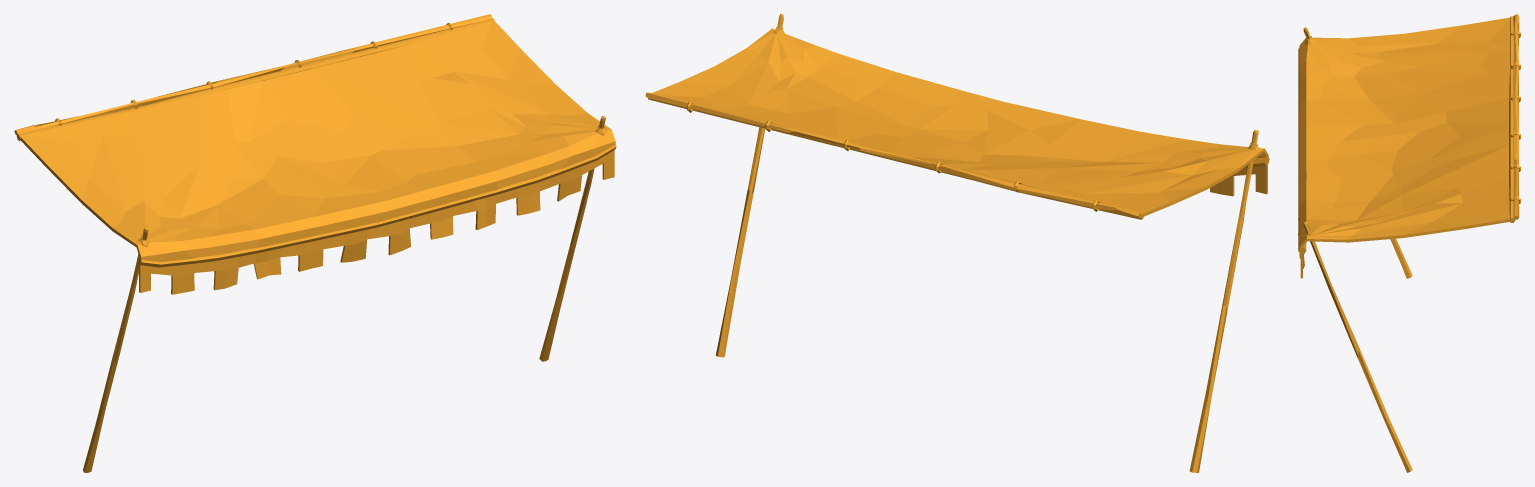
The model's file is SM_Tent_Porch_Wide_Plain_Fantasy.fbx.
The picture shows the model from 3 angles, left to right: view 1: azimuth 30°, elevation 25°; view 2: azimuth 150°, elevation 25°; view 3: azimuth 270°, elevation 25°; orthographic projection. The views are drawn at different scales.
Visible parts, largest first — view 1: tent-porch-wide-plain-fantasy; view 2: tent-porch-wide-plain-fantasy; view 3: tent-porch-wide-plain-fantasy.
Part boxes in pixels (x1,y1,x2,y2): tent-porch-wide-plain-fantasy: [14, 14, 616, 472]; tent-porch-wide-plain-fantasy: [645, 14, 1269, 472]; tent-porch-wide-plain-fantasy: [1298, 14, 1520, 472].
Bounding box in the file's own units: 4.72 × 2.86 × 2.21.
